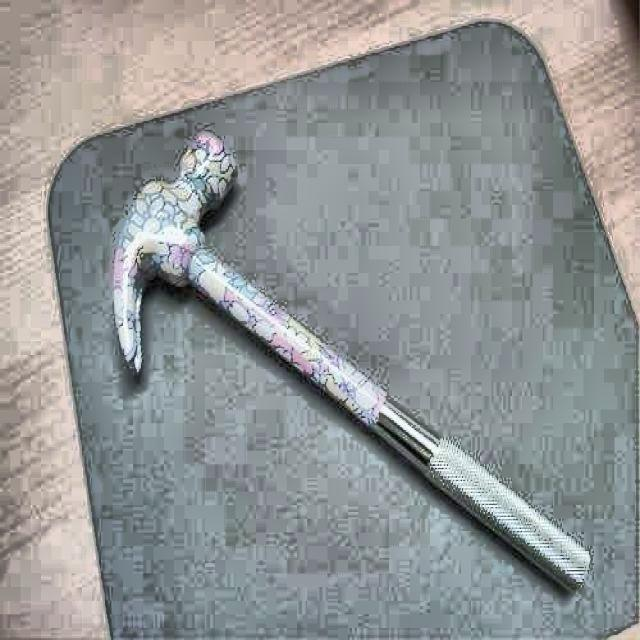hammer: (115, 130, 596, 598)
